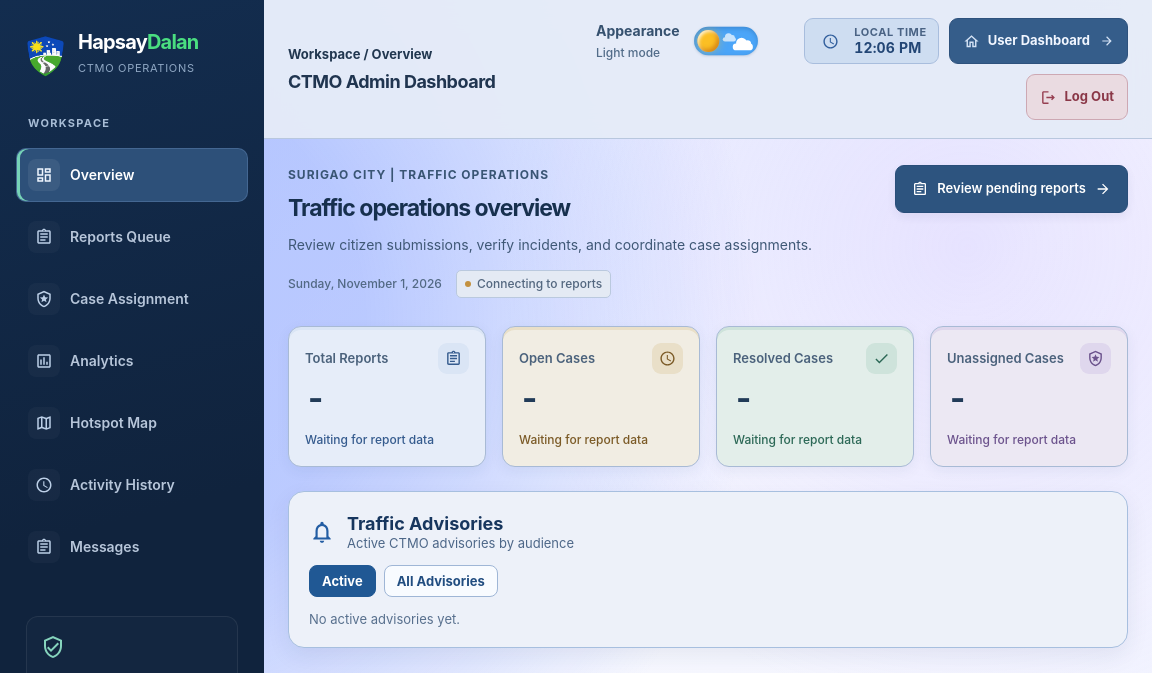
it: an officer with active cases stays listed when deletion is rejected
Click the button "Case Assignment" at x=132, y=299, box [16,272,248,326]
(page scrolled)
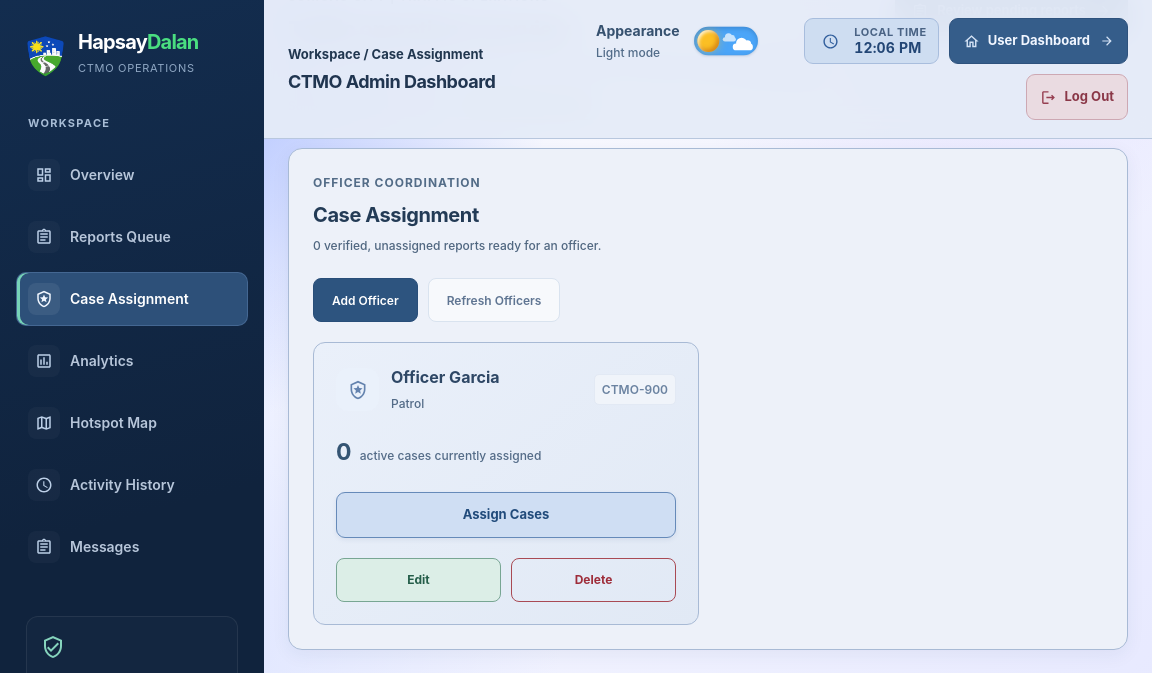
Click the button with aria-label "Delete Officer Garcia" at x=594, y=580, box [511,558,676,602]
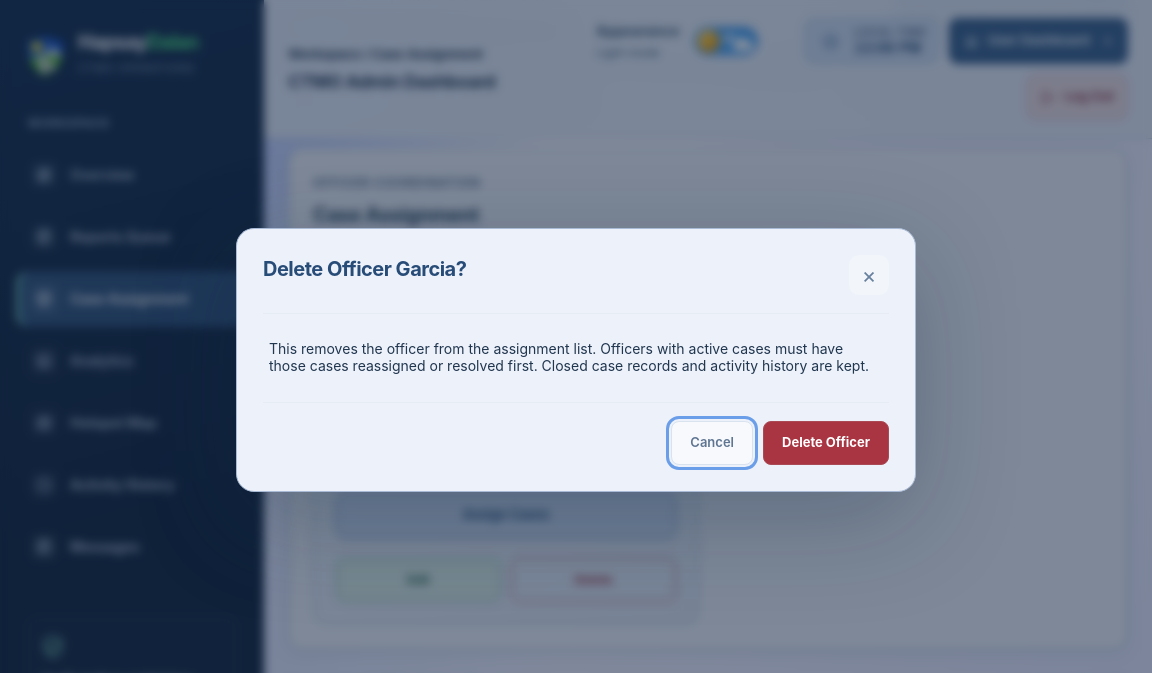
Click the button "Delete Officer" at x=826, y=443, box [763,421,889,465]
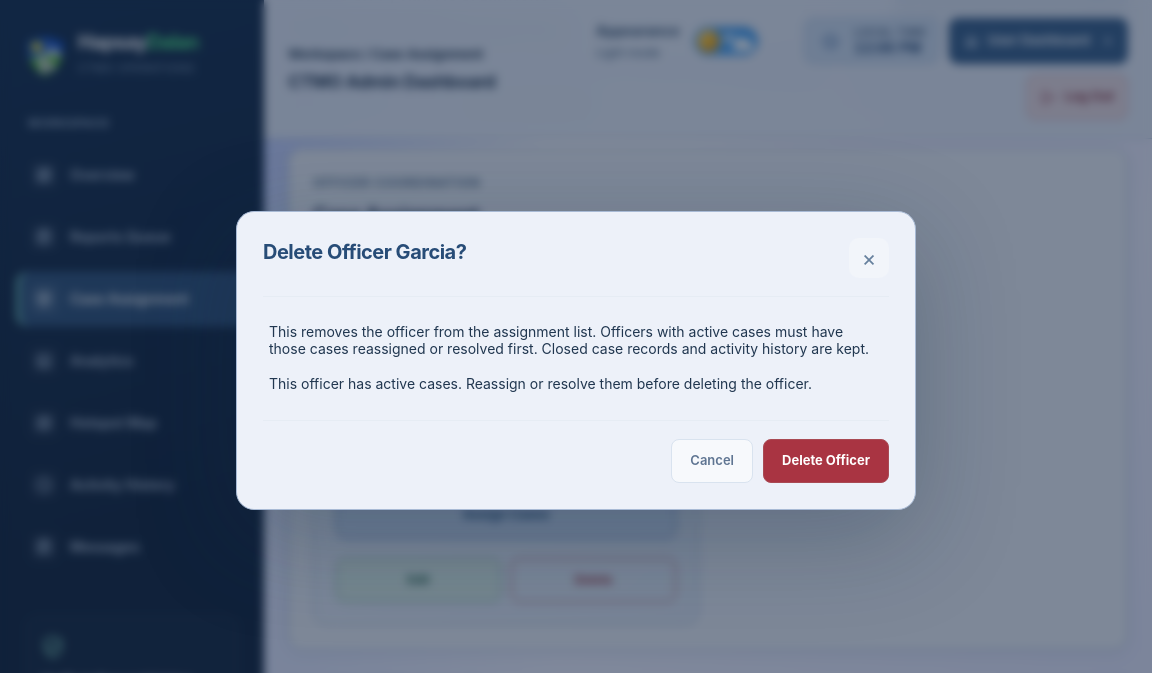
Expected: the button with aria-label "Edit Officer Garcia" is shown, [336,558,501,602]
Expected: the message shows "This officer has active cases.", [269,374,812,392]
